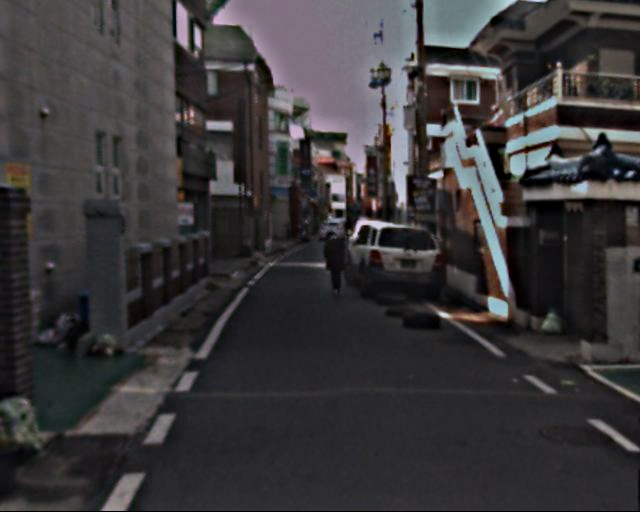person: (324, 230, 352, 299)
